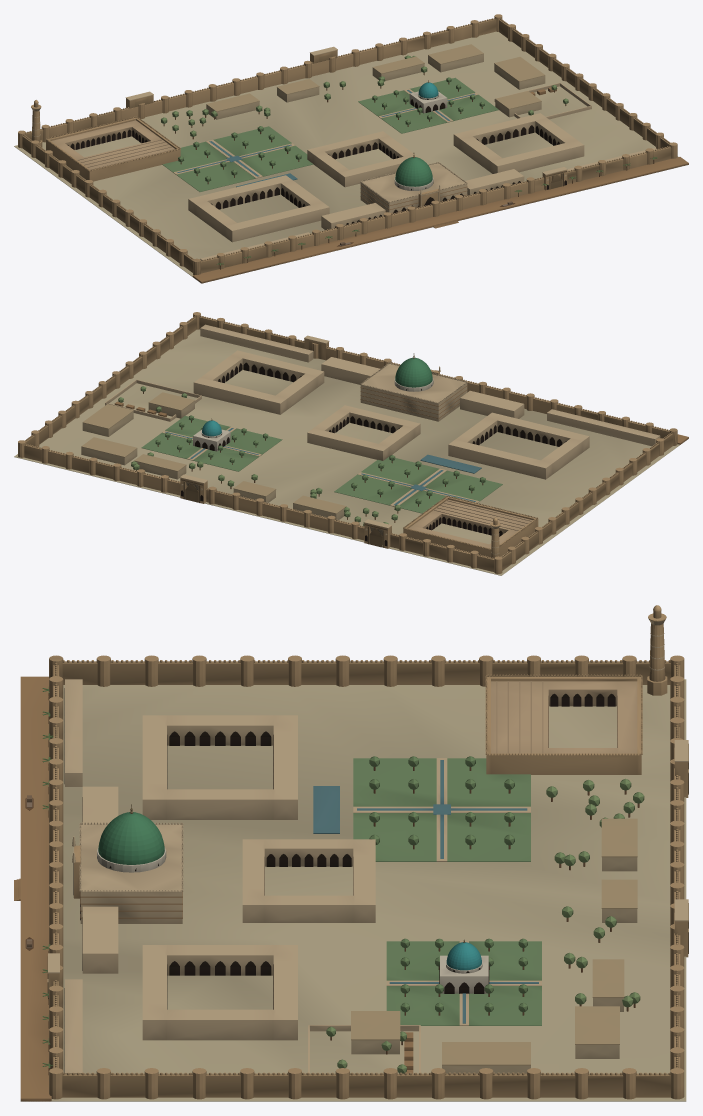
File: dar-al-khilafa.glb
3 views of the same model, one above another, from view 1: azimuth 30°, elevation 25°; view 2: azimuth 150°, elevation 25°; view 3: azimuth 270°, elevation 25° (orthographic). The views are drawn at different scales.
Visible parts, largest first — view 1: p0_ground, p2_palaces, p1_walls, p3_domes and gardens; view 2: p0_ground, p2_palaces, p1_walls, p3_domes and gardens; view 3: p0_ground, p2_palaces, p3_domes and gardens, p1_walls.
Part boxes in pixels (x1=…): p0_ground: x1=14, y1=31, x2=688, y2=283; p2_palaces: x1=45, y1=44, x2=584, y2=242; p1_walls: x1=18, y1=14, x2=677, y2=275; p3_domes and gardens: x1=31, y1=55, x2=657, y2=267; p0_ground: x1=14, y1=329, x2=688, y2=575; p2_palaces: x1=81, y1=350, x2=589, y2=557; p1_walls: x1=18, y1=312, x2=677, y2=573; p3_domes and gardens: x1=105, y1=324, x2=660, y2=558; p0_ground: x1=20, y1=676, x2=686, y2=1101; p2_palaces: x1=72, y1=674, x2=642, y2=1073; p3_domes and gardens: x1=25, y1=605, x2=667, y2=1073; p1_walls: x1=14, y1=655, x2=688, y2=1099.
Size of the model in its own units: 450 by 43.67 by 304.
